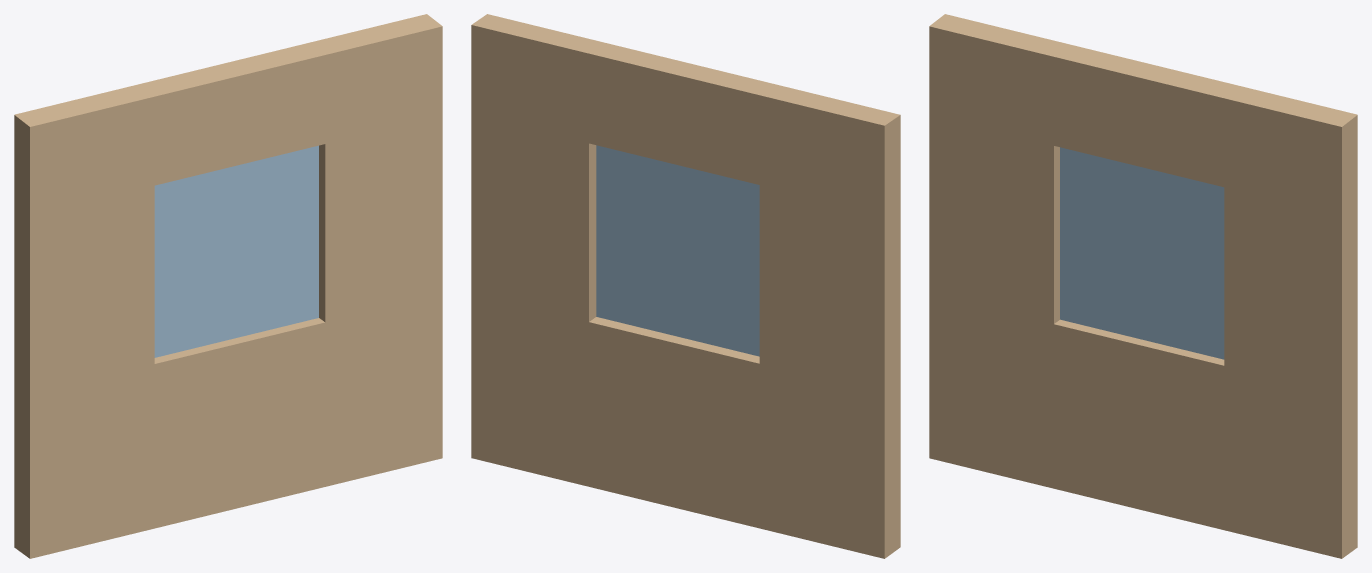
Rendered from house-wall-window.fbx.
3 renders of one model, left to right at view 1: azimuth 30°, elevation 25°; view 2: azimuth 150°, elevation 25°; view 3: azimuth 330°, elevation 25°, orthographic.
Visible parts, largest first — view 1: house-wall-3x3m; view 2: house-wall-3x3m; view 3: house-wall-3x3m.
Boxes of the visible parts, <box> form: house-wall-3x3m: <box>14,14,442,558</box>; house-wall-3x3m: <box>471,14,900,558</box>; house-wall-3x3m: <box>929,14,1357,558</box>.
Bounding box in the file's own units: 300 × 301 × 20.
